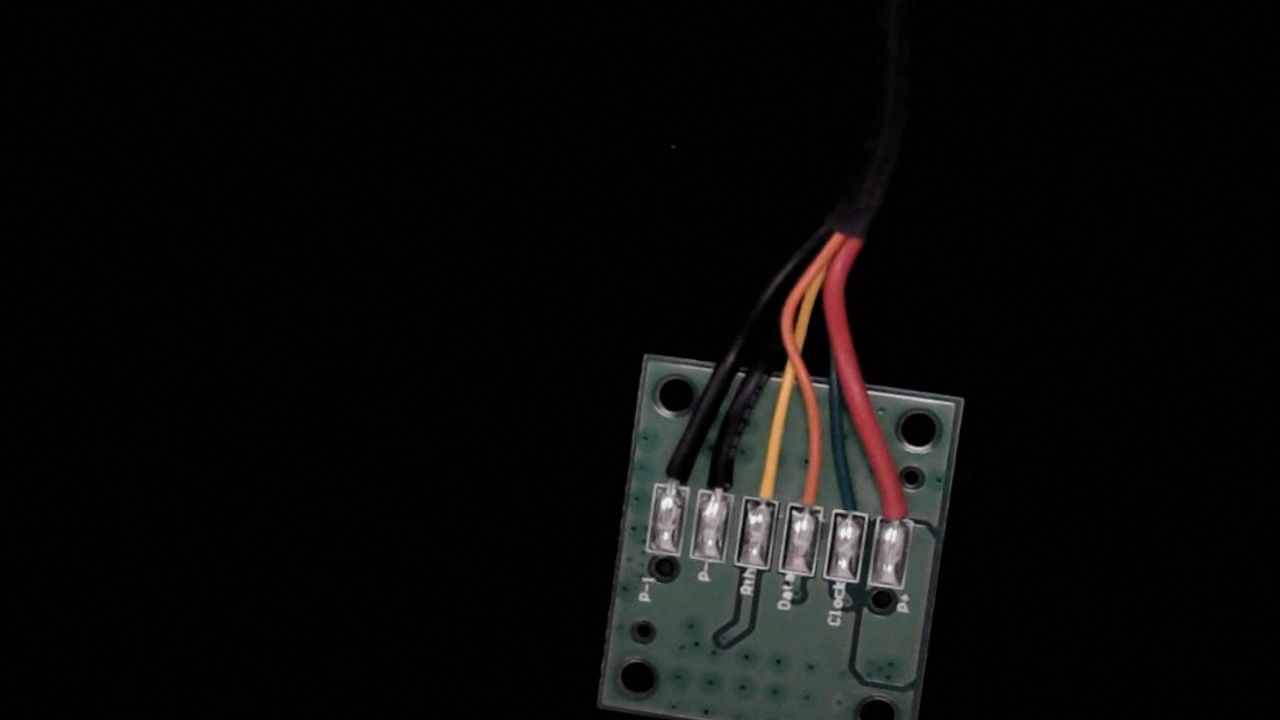Black: (694, 435, 748, 511)
Black1: (649, 426, 699, 505)
Green: (831, 464, 875, 534)
Orange: (786, 453, 833, 525)
Red: (874, 469, 923, 538)
Yellow: (741, 441, 790, 519)
